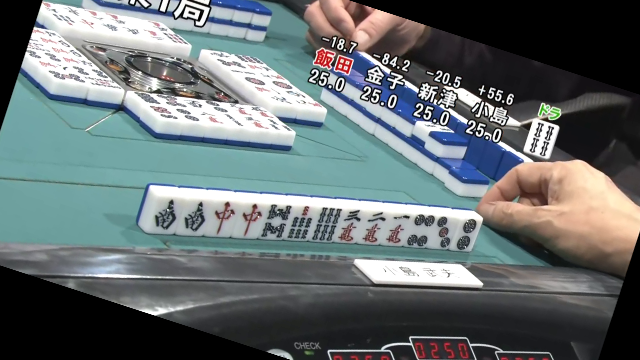Tehai: (135, 181, 490, 258)
